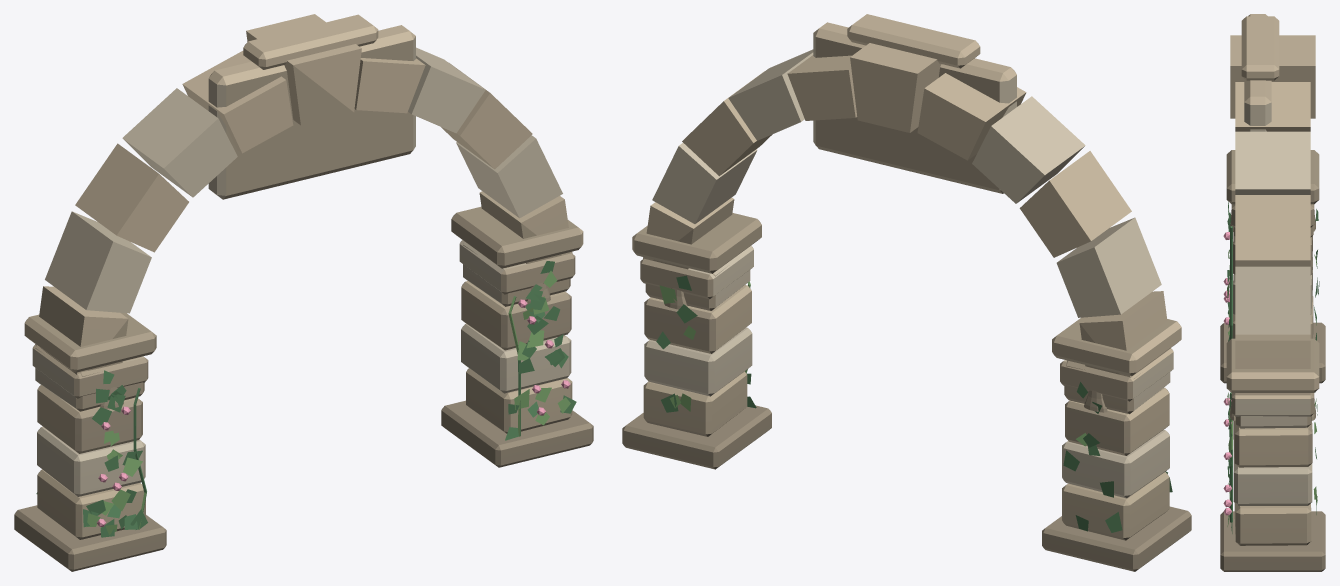
Rendered from gate-arch.glb.
3 views of the same model, side by side, from view 1: azimuth 30°, elevation 25°; view 2: azimuth 150°, elevation 25°; view 3: azimuth 270°, elevation 25° (orthographic). The views are drawn at different scales.
Parts seen in each view (by area): view 1: Stone, Ivy, Flowers; view 2: Stone, Ivy; view 3: Stone, Ivy, Flowers.
Part boxes in pixels (left/top/right/bottom): Stone: left=14, top=14, right=593, bottom=571; Ivy: left=36, top=261, right=576, bottom=537; Flowers: left=97, top=299, right=570, bottom=526; Stone: left=622, top=14, right=1191, bottom=571; Ivy: left=656, top=275, right=1172, bottom=532; Stone: left=1220, top=14, right=1325, bottom=571; Ivy: left=1227, top=201, right=1319, bottom=533; Flowers: left=1223, top=232, right=1231, bottom=515.
Size of the model in its own units: 4.38 by 3.67 by 0.84.
